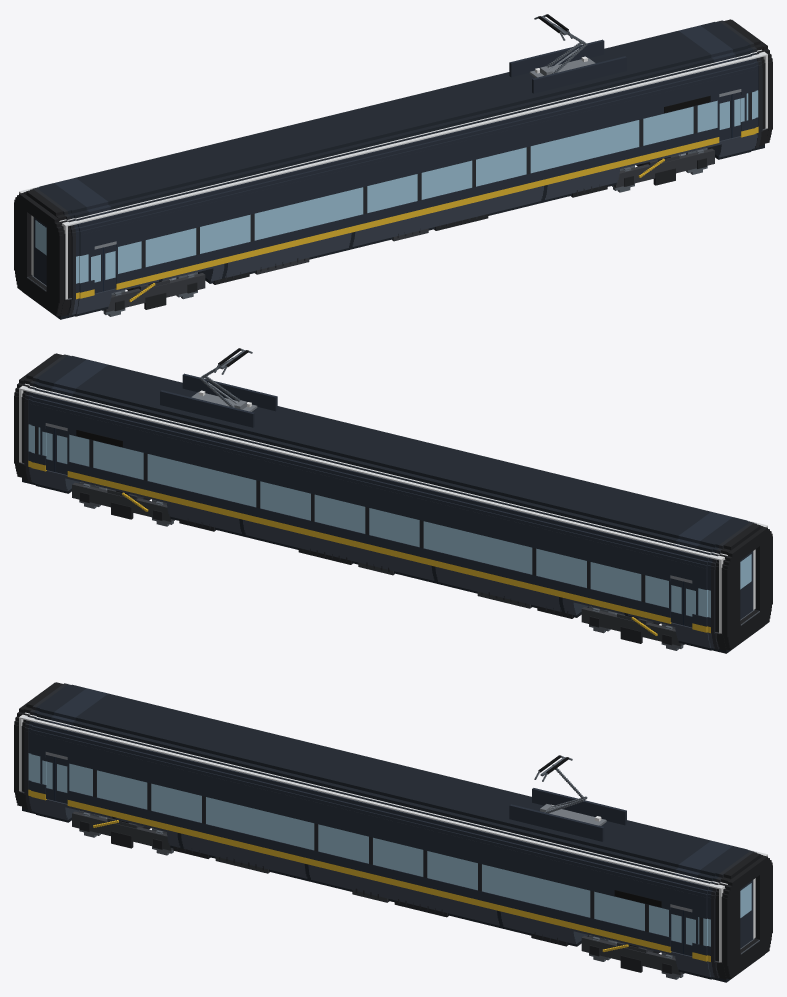
File: e320_car.obj
3 views of the same model, one above another, from view 1: azimuth 30°, elevation 25°; view 2: azimuth 150°, elevation 25°; view 3: azimuth 330°, elevation 25° (orthographic).
Parts seen in each view (by area): view 1: SHELL, SHELL_diaphragm, SHELL_ceiling, SHELL_pantograph, BOGEY_FRONT, BOGEY_REAR, FRAME, CONNECTING_DOOR_1_CG_CR_TOGGLE_TL_0.98_Z, SHELL_end, EXTERNAL_DOOR_10_CG_DR2_TOGGLE_TL_-0.44_X, EXTERNAL_DOOR_5_CG_DR1_TOGGLE_TL_0.44_X, EXTERNAL_DOOR_4_CG_DR1_TOGGLE_TL_-0.44_X; view 2: SHELL, SHELL_diaphragm, SHELL_ceiling, SHELL_pantograph, BOGEY_FRONT, BOGEY_REAR, FRAME, CONNECTING_DOOR_1_CG_CR_TOGGLE_TL_0.98_Z, SHELL_end, EXTERNAL_DOOR_13_CG_DL2_TOGGLE_TL_-0.44_X, EXTERNAL_DOOR_8_CG_DL1_TOGGLE_TL_0.44_X, EXTERNAL_DOOR_7_CG_DL1_TOGGLE_TL_-0.44_X; view 3: SHELL, SHELL_diaphragm, SHELL_ceiling, SHELL_pantograph, BOGEY_REAR, BOGEY_FRONT, FRAME, CONNECTING_DOOR_2_CG_CF_TOGGLE_TL_0.98_Z, SHELL_end, EXTERNAL_DOOR_10_CG_DR2_TOGGLE_TL_-0.44_X, EXTERNAL_DOOR_5_CG_DR1_TOGGLE_TL_0.44_X, EXTERNAL_DOOR_4_CG_DR1_TOGGLE_TL_-0.44_X.
Boxes of the visible parts, <box> form: SHELL: <box>23,19,768,319</box>; SHELL_diaphragm: <box>14,20,772,316</box>; SHELL_ceiling: <box>21,20,765,226</box>; SHELL_pantograph: <box>509,14,626,93</box>; BOGEY_FRONT: <box>613,148,714,187</box>; BOGEY_REAR: <box>104,273,205,312</box>; FRAME: <box>213,184,607,284</box>; CONNECTING_DOOR_1_CG_CR_TOGGLE_TL_0.98_Z: <box>33,217,46,285</box>; SHELL_end: <box>19,20,767,299</box>; EXTERNAL_DOOR_10_CG_DR2_TOGGLE_TL_-0.44_X: <box>717,94,732,140</box>; EXTERNAL_DOOR_5_CG_DR1_TOGGLE_TL_0.44_X: <box>104,244,117,291</box>; EXTERNAL_DOOR_4_CG_DR1_TOGGLE_TL_-0.44_X: <box>88,247,103,293</box>; SHELL: <box>18,353,763,653</box>; SHELL_diaphragm: <box>14,354,772,650</box>; SHELL_ceiling: <box>20,354,765,560</box>; SHELL_pantograph: <box>160,348,277,427</box>; BOGEY_FRONT: <box>72,482,173,521</box>; BOGEY_REAR: <box>581,607,682,646</box>; FRAME: <box>179,519,573,618</box>; CONNECTING_DOOR_1_CG_CR_TOGGLE_TL_0.98_Z: <box>740,551,753,619</box>; SHELL_end: <box>19,354,767,633</box>; EXTERNAL_DOOR_13_CG_DL2_TOGGLE_TL_-0.44_X: <box>54,428,69,474</box>; EXTERNAL_DOOR_8_CG_DL1_TOGGLE_TL_0.44_X: <box>669,578,682,625</box>; EXTERNAL_DOOR_7_CG_DL1_TOGGLE_TL_-0.44_X: <box>683,581,698,627</box>; SHELL: <box>18,682,764,982</box>; SHELL_diaphragm: <box>14,682,772,979</box>; SHELL_ceiling: <box>20,683,765,888</box>; SHELL_pantograph: <box>509,755,626,841</box>; BOGEY_REAR: <box>72,811,173,850</box>; BOGEY_FRONT: <box>581,935,682,974</box>; FRAME: <box>173,846,568,946</box>; CONNECTING_DOOR_2_CG_CF_TOGGLE_TL_0.98_Z: <box>740,880,753,948</box>; SHELL_end: <box>19,683,767,962</box>; EXTERNAL_DOOR_10_CG_DR2_TOGGLE_TL_-0.44_X: <box>669,907,683,954</box>; EXTERNAL_DOOR_5_CG_DR1_TOGGLE_TL_0.44_X: <box>55,757,69,803</box>; EXTERNAL_DOOR_4_CG_DR1_TOGGLE_TL_-0.44_X: <box>40,755,55,800</box>.
Size of the model in its own units: 24.52 by 5.68 by 2.94.
1 material, 1 textured.
